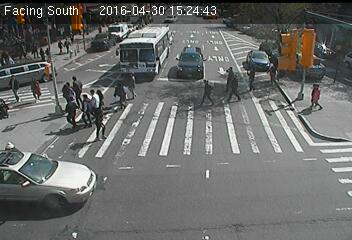neg: (163, 134, 196, 178), (318, 152, 347, 190), (244, 164, 269, 198), (67, 166, 92, 199), (25, 144, 49, 176), (279, 132, 302, 163), (206, 34, 225, 59), (103, 25, 122, 50), (156, 46, 174, 71), (249, 111, 267, 135), (73, 28, 91, 51), (293, 31, 310, 54), (246, 24, 261, 43)
pos: (85, 103, 117, 145), (193, 76, 220, 112), (306, 80, 331, 113), (4, 69, 27, 100), (63, 99, 85, 129), (124, 71, 144, 98), (26, 75, 46, 101), (226, 76, 245, 102), (241, 60, 260, 85), (112, 78, 131, 103), (266, 61, 283, 84), (56, 80, 73, 103), (71, 73, 88, 96), (84, 86, 101, 109)
